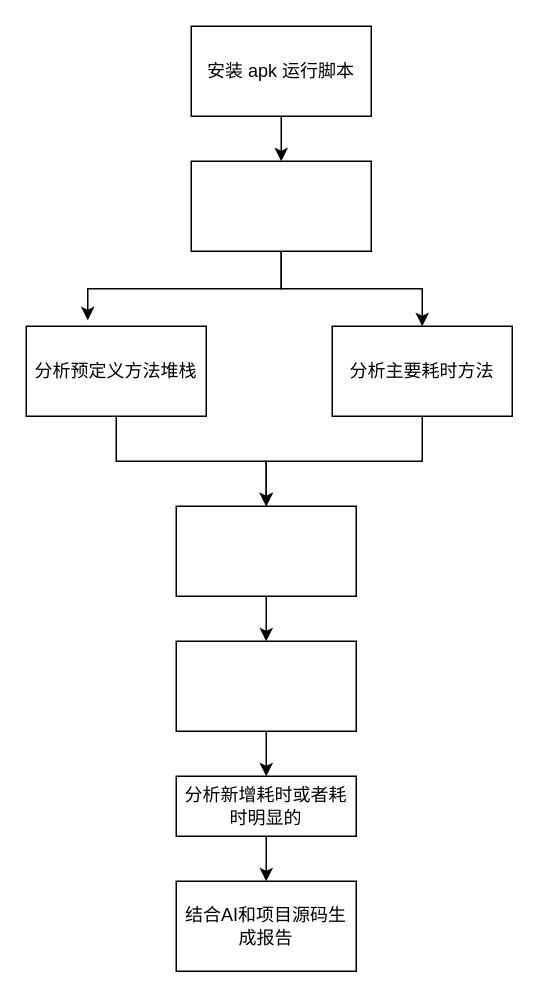
Some shapes in this 539 by 998 pixel diagram are drawn without their labels. Here are the shapes that lost their labels. From the top down, the centre of each, then its label:
At point 280,205: "拉起指定页面，抓取生成 pb".
At point 265,550: "存入数据库".
At point 265,685: "对比新旧版本数据".
